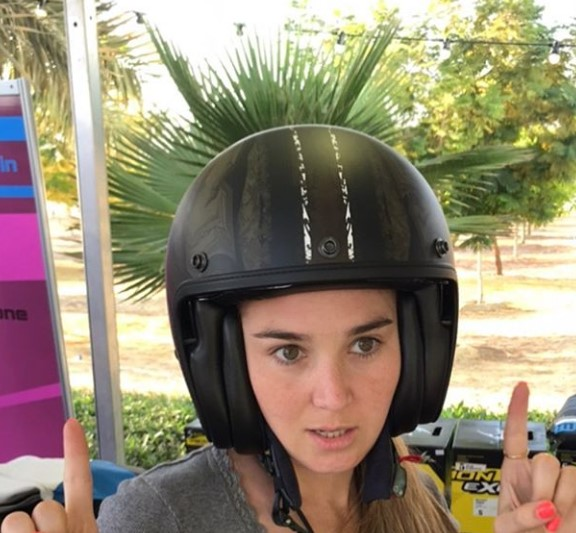face_no_mask: (214, 225, 418, 477)
